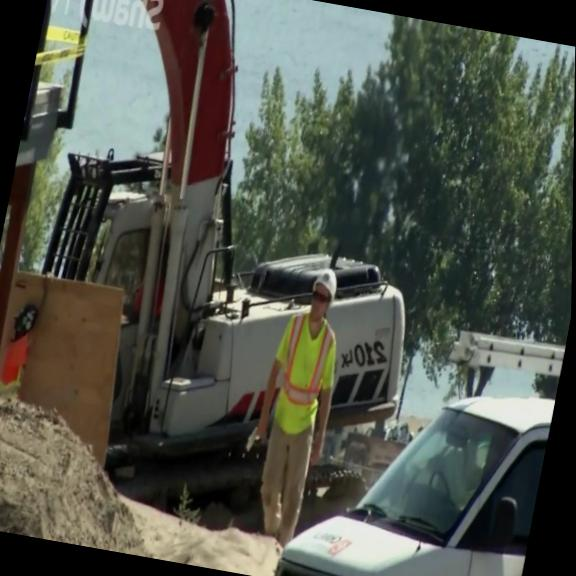safety_vest: (261, 307, 347, 441), (0, 331, 31, 399)
